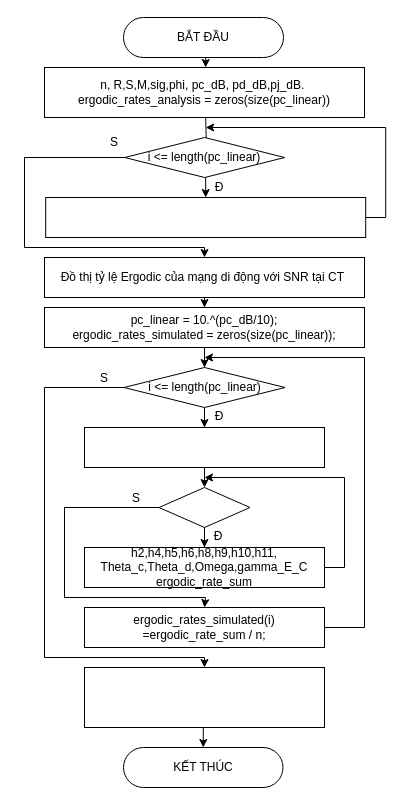
The diagram is 412 pixels wide and 805 high, and some of its shapes have lost their labels. Each missing label, with the centre of its shape:
"EU1,EU2,EU3,VU1,VU2,VU3; ergodic_rates_analysis(i)" belongs at (205,217).
"j <= n" belongs at (204,507).
"Khởi tạo ergodic_rate_sum = 0" belongs at (204,447).
"Đồ thị tỷ lệ Ergodic mạng di động với SNR tại CT" belongs at (204,697).
